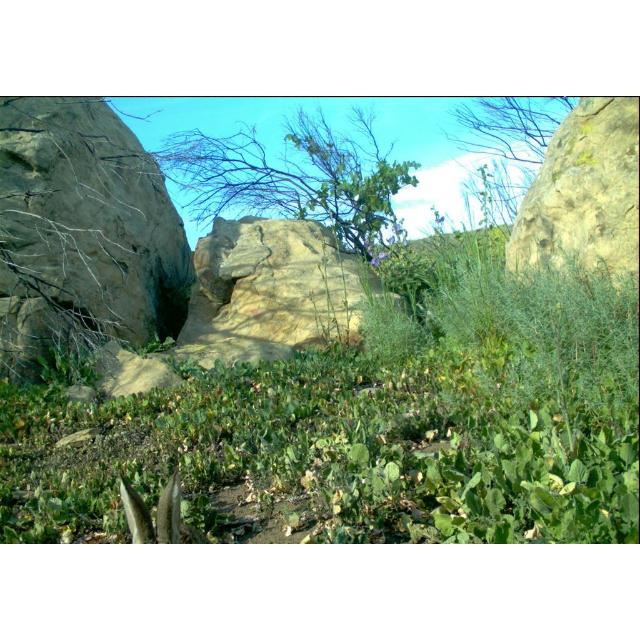animals: (115, 470, 193, 544)
